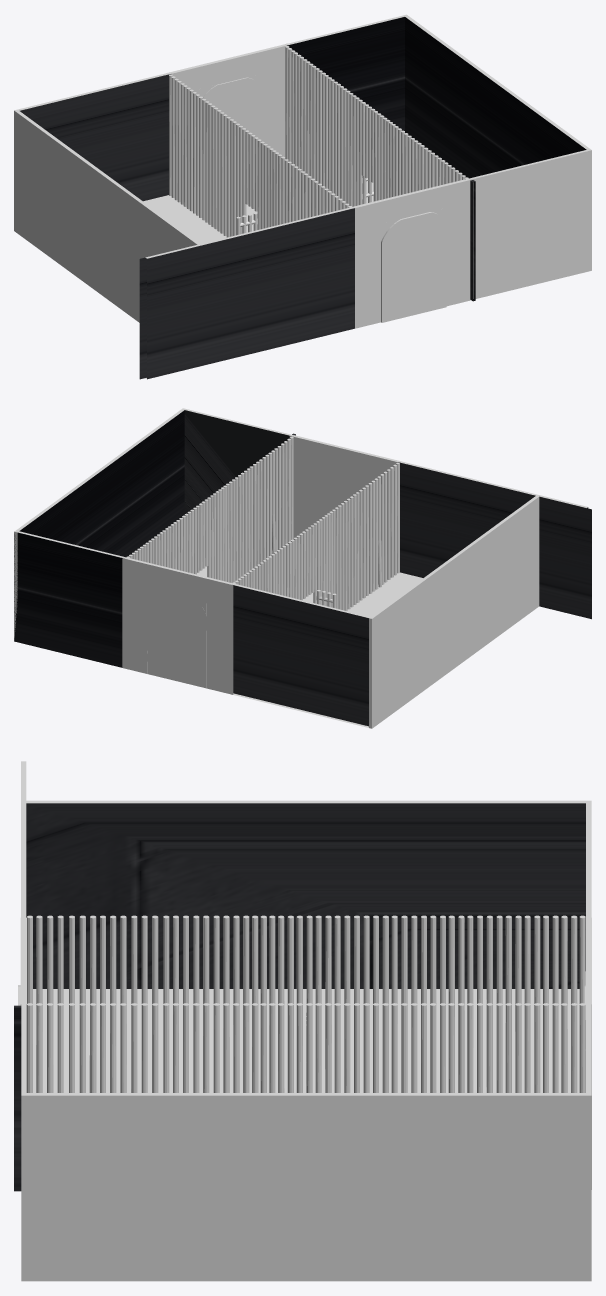
Rendered from sala_3.fbx.
3 renders of one model, top to bottom at view 1: azimuth 30°, elevation 25°; view 2: azimuth 150°, elevation 25°; view 3: azimuth 270°, elevation 25°, orthographic. The views are drawn at different scales.
Visible parts, largest first — view 1: paredes, barra carcel 4, barra carcel 5, puerta sala; view 2: paredes, barra carcel 4, barra carcel 5; view 3: paredes, barra carcel 5, barra carcel 4.
Part boxes in pixels (box(x1,y1,x2,y2)): paredes: box(14, 14, 591, 379); barra carcel 4: box(169, 74, 352, 237); barra carcel 5: box(285, 46, 468, 206); puerta sala: box(203, 77, 446, 322); paredes: box(14, 408, 591, 728); barra carcel 4: box(233, 462, 399, 610); barra carcel 5: box(126, 436, 293, 583); paredes: box(14, 761, 591, 1281); barra carcel 5: box(27, 1003, 585, 1092); barra carcel 4: box(27, 915, 585, 1092).
Size of the model in its own units: 783 by 200 by 564.
